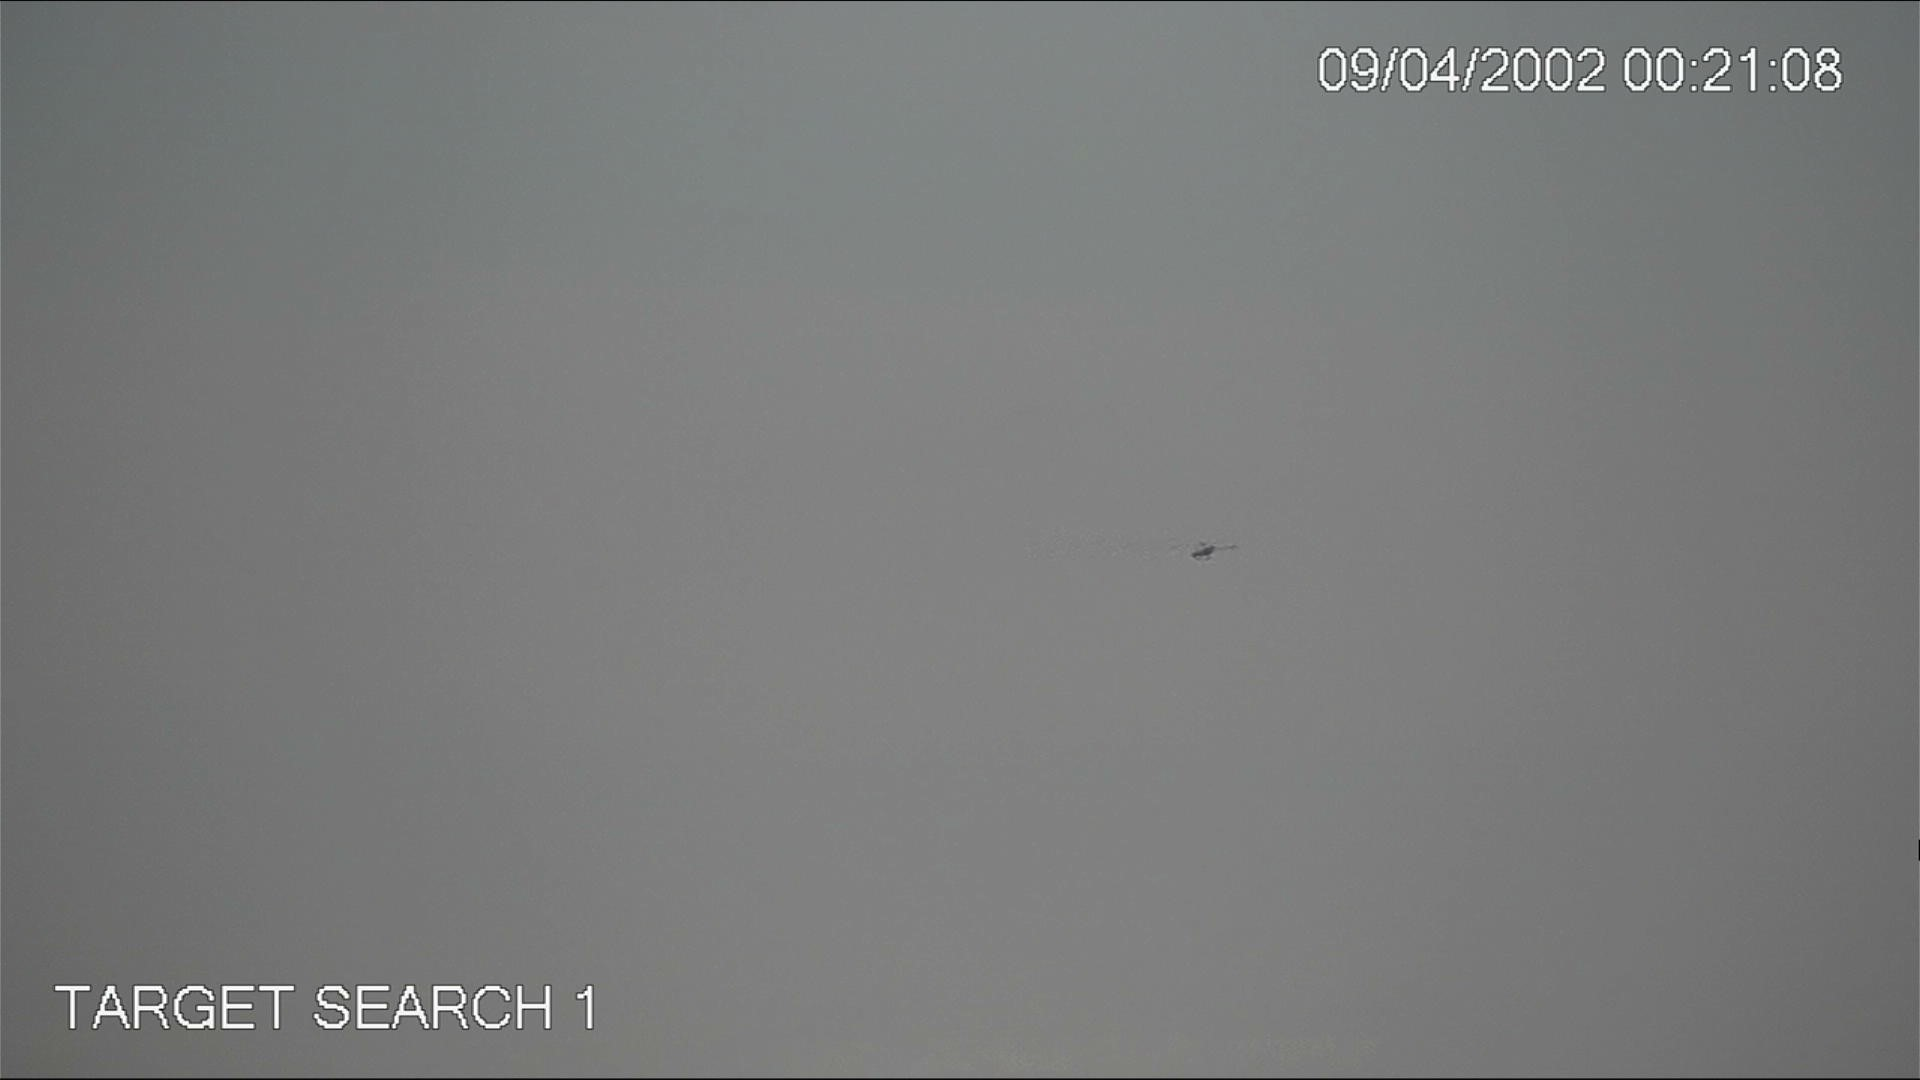SU_30: (1189, 541, 1216, 563)
